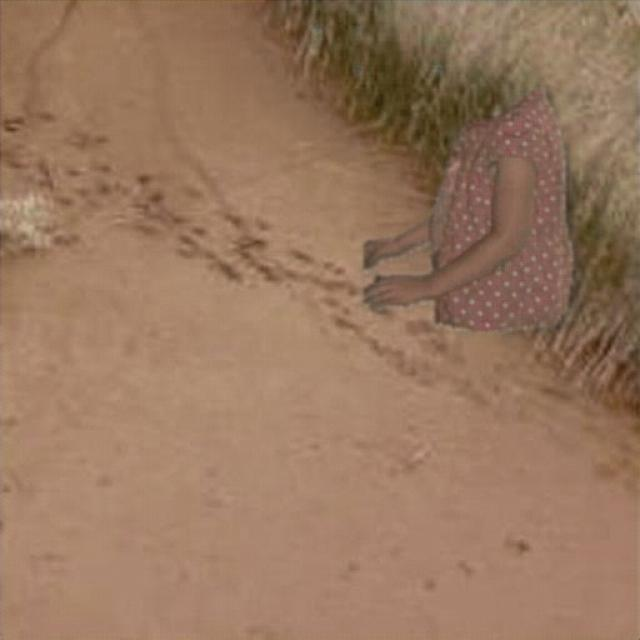Person in Rubble: (364, 89, 574, 330)
